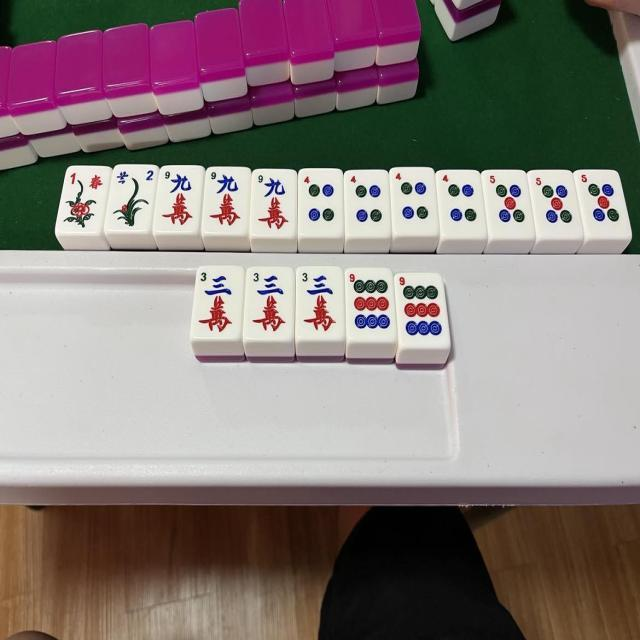bf2: (113, 166, 154, 232)
bs1: (62, 167, 105, 230)
sc3: (298, 268, 341, 338), (248, 269, 290, 337), (198, 268, 236, 336)
sc9: (160, 166, 197, 230), (253, 170, 291, 232), (207, 169, 243, 231)
sd4: (300, 169, 342, 236), (346, 172, 388, 236), (393, 170, 433, 233), (440, 173, 481, 232)
sd5: (578, 172, 620, 230), (534, 173, 573, 230), (487, 174, 526, 230)
sd9: (398, 275, 444, 339), (346, 272, 392, 335)
